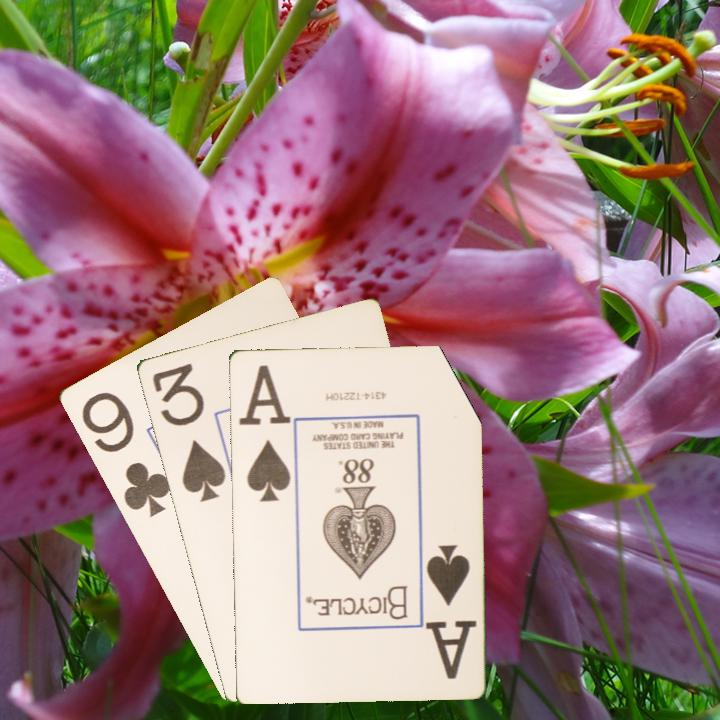3s: (148, 359, 228, 505)
9c: (77, 388, 173, 520)
As: (423, 540, 479, 681), (243, 374, 293, 504)
